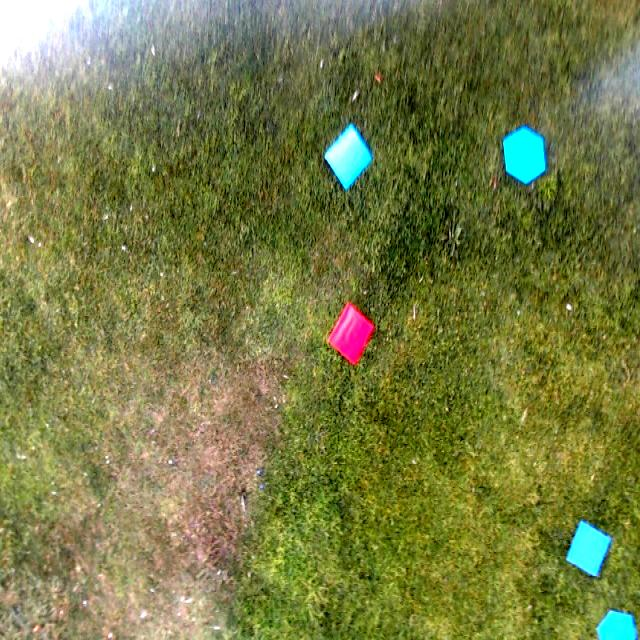blue_hexagon: (504, 130, 546, 184)
blue_square: (326, 125, 370, 190), (566, 519, 612, 578)
red_square: (328, 300, 371, 366)
